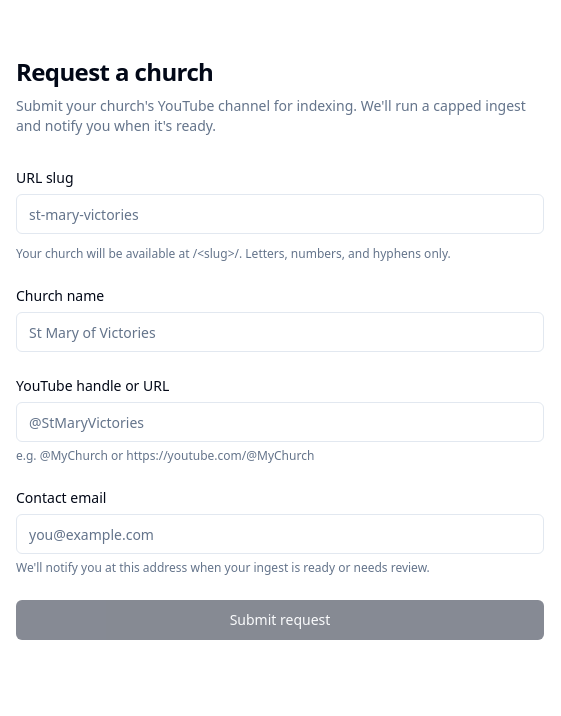
Test: IngestPage › POST submission › rebuilds callout and disables submit on POST 409 (race protection)
This screenshot has width=561, height=716.
Type "my-church" into the field labelled "URL slug" at (280, 214), box [16,194,544,234]
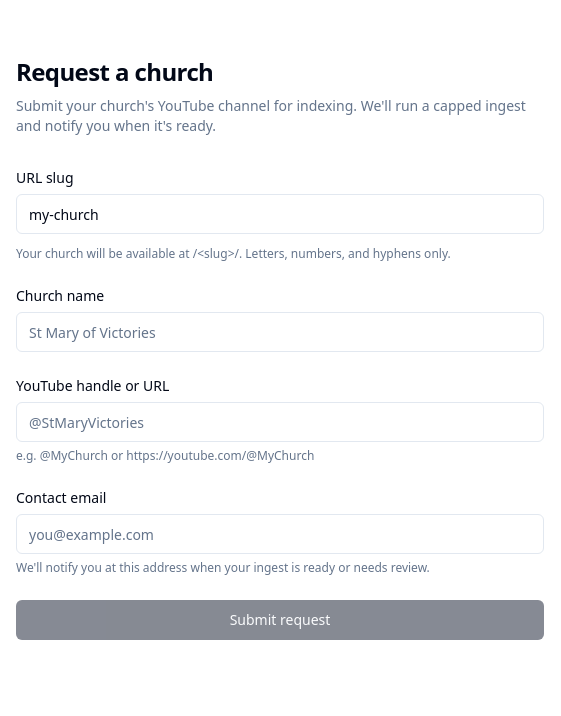
Type "My Church" into the field labelled "Church name" at (280, 332), box [16,312,544,352]
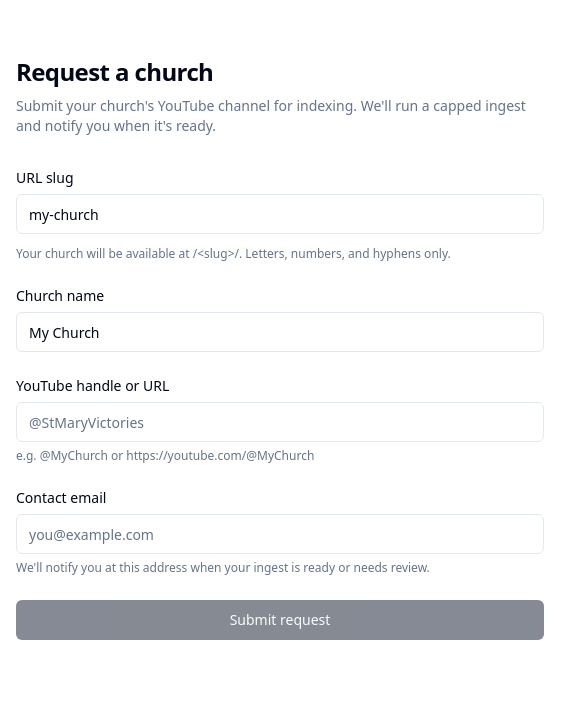
Type "@MyChurch" into the field labelled "YouTube handle or URL" at (280, 422), box [16,402,544,442]
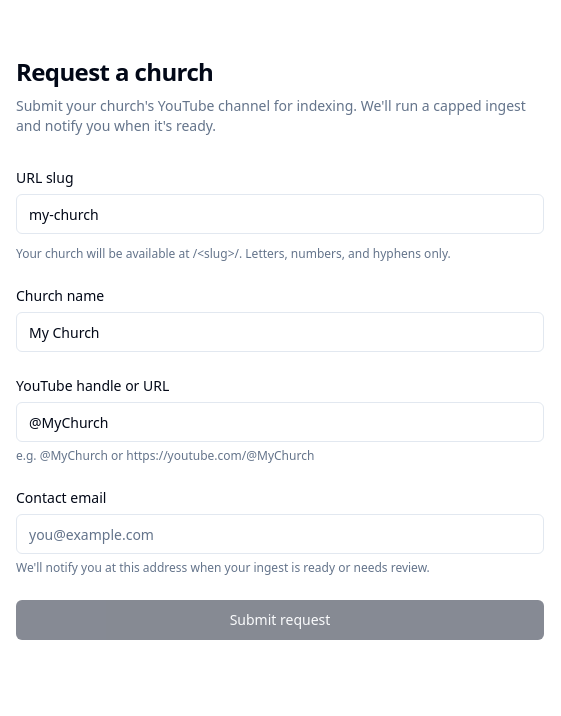
Type "me@example.com" into the field labelled "Contact email" at (280, 534), box [16,514,544,554]
(page scrolled)
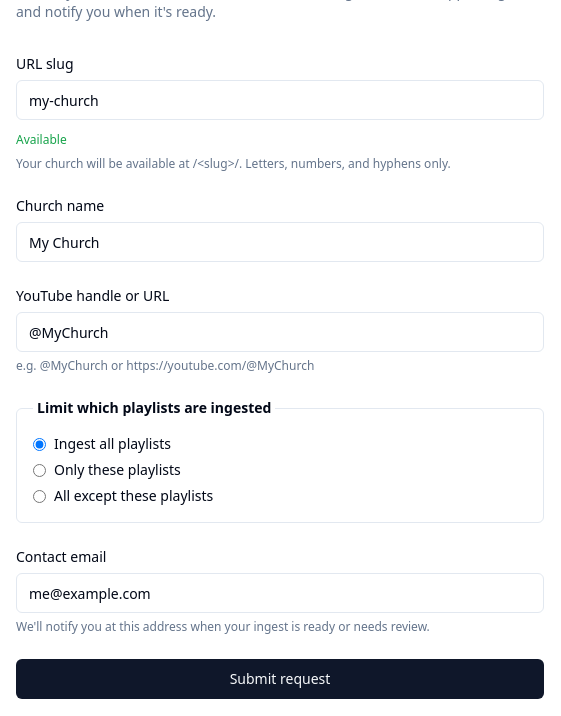
Now the text "Available" is shown, box [16,131,67,148]
Now the text "Limit which playlists are ingested" is shown, box [33,398,275,418]
Submit the form named "submit request"
(page scrolled)
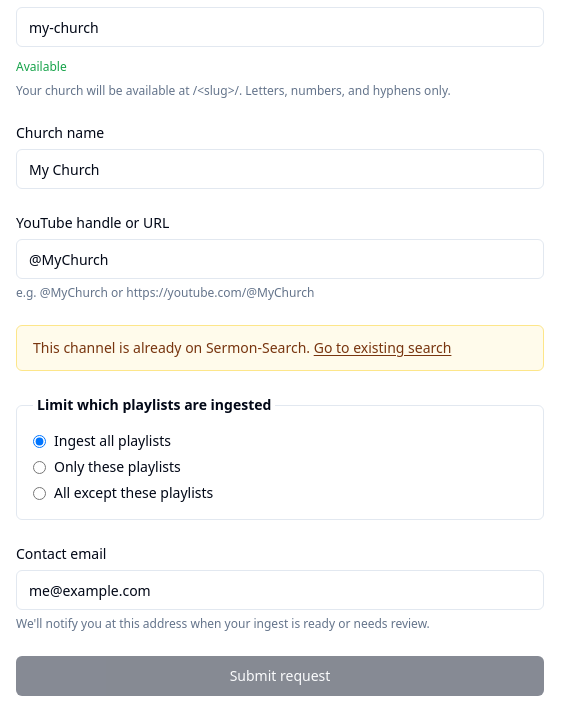
Now the link "Go to existing search" is shown, box [314,338,451,357]
Now the button "Submit request" is disabled, box [16,656,544,696]
